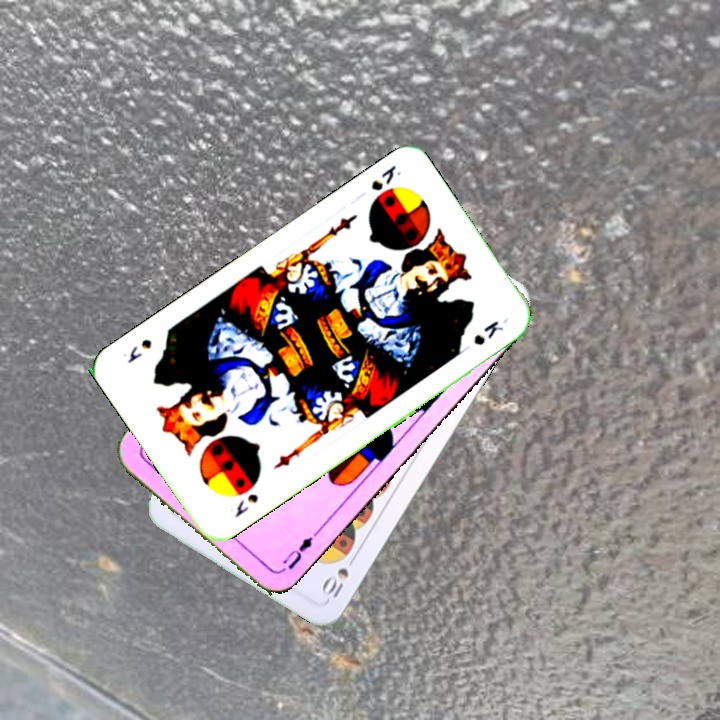EU: (273, 528, 320, 576)
S10: (317, 550, 360, 601)
SK: (367, 160, 404, 194), (230, 489, 261, 521)
